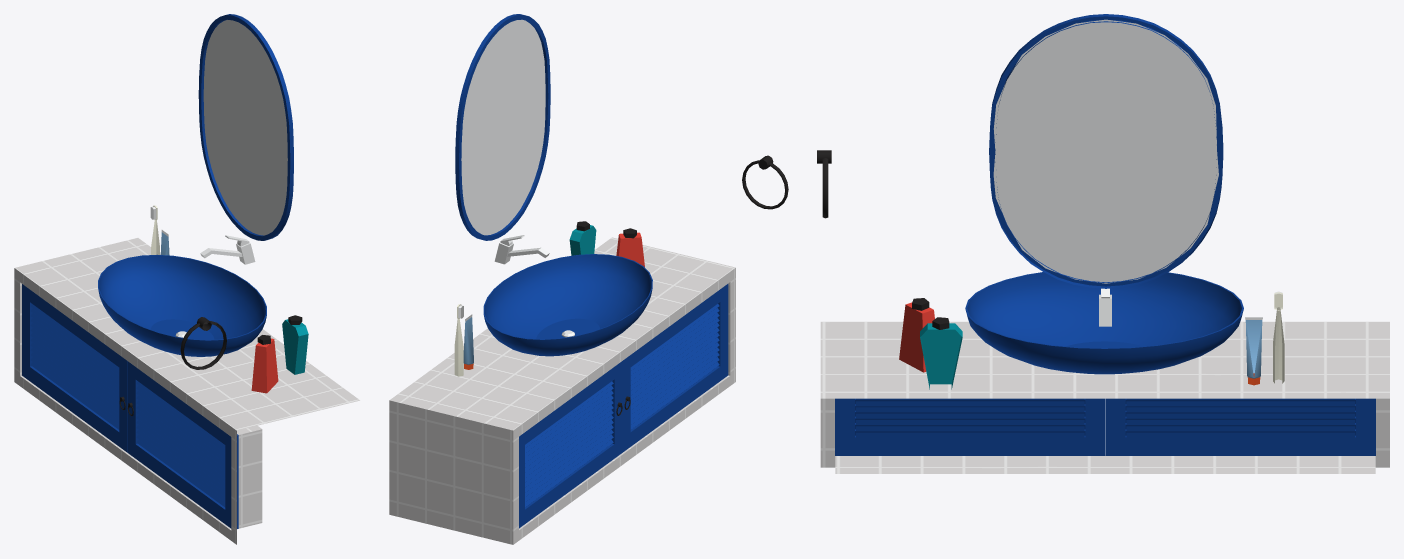
Rendered from M_BRxishutai04.FBX.
The picture shows the model from 3 angles, left to right: view 1: azimuth 30°, elevation 25°; view 2: azimuth 150°, elevation 25°; view 3: azimuth 270°, elevation 25°; orthographic projection. The views are drawn at different scales.
Visible parts, largest first — view 1: M_BRxishutai04_01, M_BRxishutai04_02, M_BRxishutai04_05, M_BRxishutai04_03, M_BRxishutai04_06, M_BRxishutai04_04; view 2: M_BRxishutai04_01, M_BRxishutai04_02, M_BRxishutai04_05, M_BRxishutai04_03, M_BRxishutai04_06, M_BRxishutai04_04; view 3: M_BRxishutai04_05, M_BRxishutai04_01, M_BRxishutai04_02, M_BRxishutai04_03, M_BRxishutai04_06, M_BRxishutai04_04.
Boxes of the visible parts, x1,y1,x2,y2 form: M_BRxishutai04_01: (14, 238, 359, 544); M_BRxishutai04_02: (22, 284, 238, 528); M_BRxishutai04_05: (203, 20, 287, 235); M_BRxishutai04_03: (98, 254, 266, 356); M_BRxishutai04_06: (119, 14, 293, 416); M_BRxishutai04_04: (150, 205, 308, 393); M_BRxishutai04_01: (389, 237, 735, 544); M_BRxishutai04_02: (519, 284, 728, 528); M_BRxishutai04_05: (461, 19, 545, 235); M_BRxishutai04_03: (483, 254, 652, 356); M_BRxishutai04_06: (455, 14, 788, 415); M_BRxishutai04_04: (454, 221, 644, 376); M_BRxishutai04_05: (993, 19, 1218, 283); M_BRxishutai04_01: (820, 321, 1389, 473); M_BRxishutai04_02: (835, 398, 1375, 455); M_BRxishutai04_03: (965, 272, 1243, 374); M_BRxishutai04_06: (817, 14, 1223, 326); M_BRxishutai04_04: (899, 291, 1284, 389).
Size of the model in its own units: 1.48 by 3.22 by 3.17.
